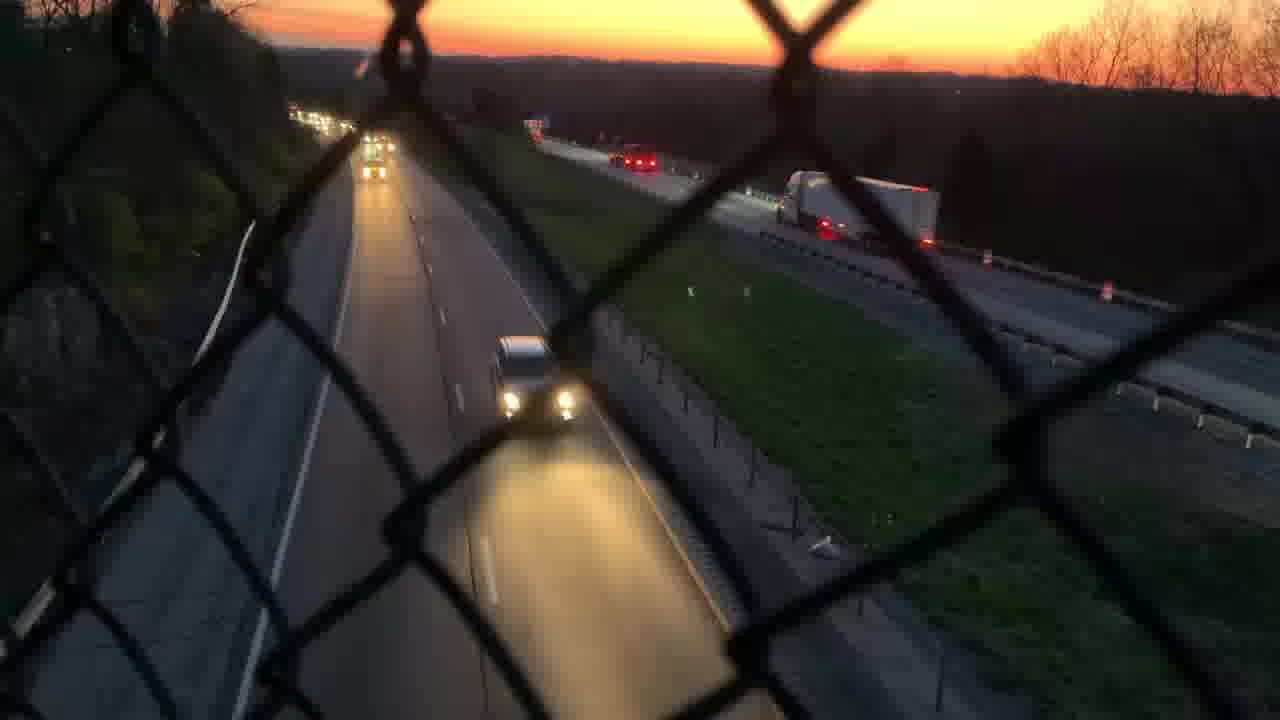heavyTruck: (775, 167, 944, 254), (608, 138, 660, 174)
largeCar: (485, 330, 581, 440)
